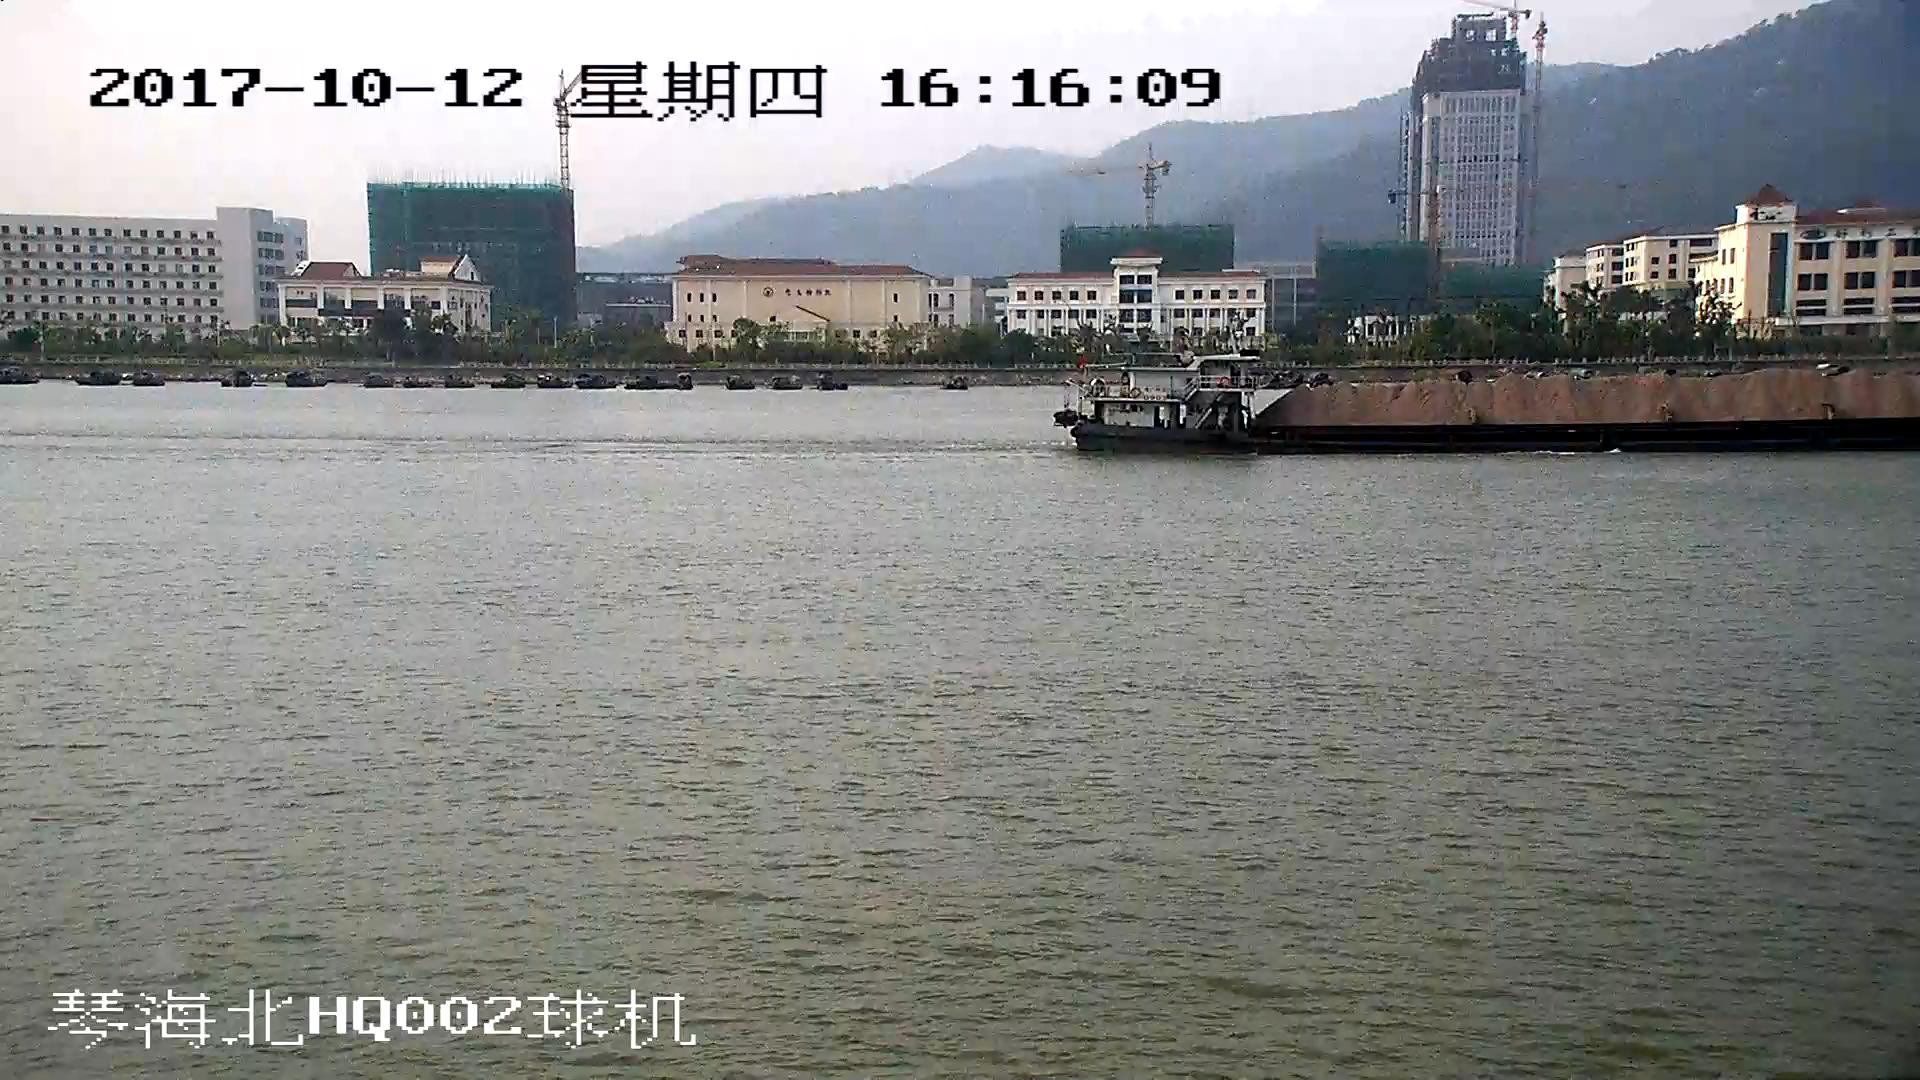ore carrier: (1062, 360, 1920, 456)
